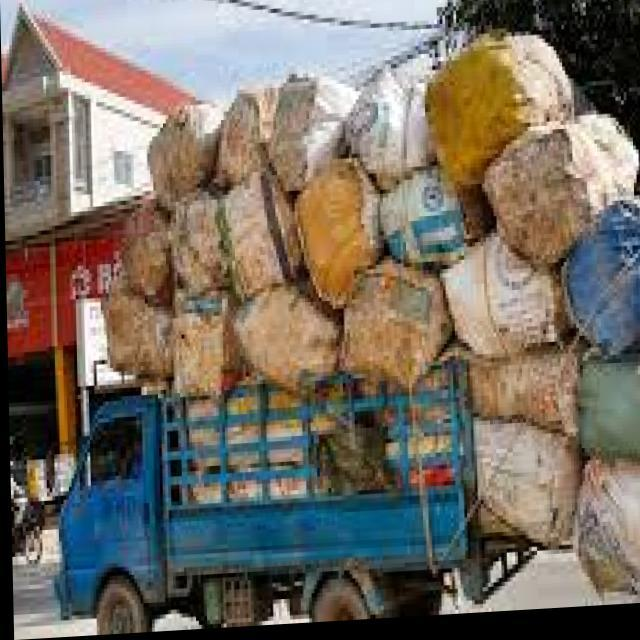uncovered: (34, 36, 640, 638)
